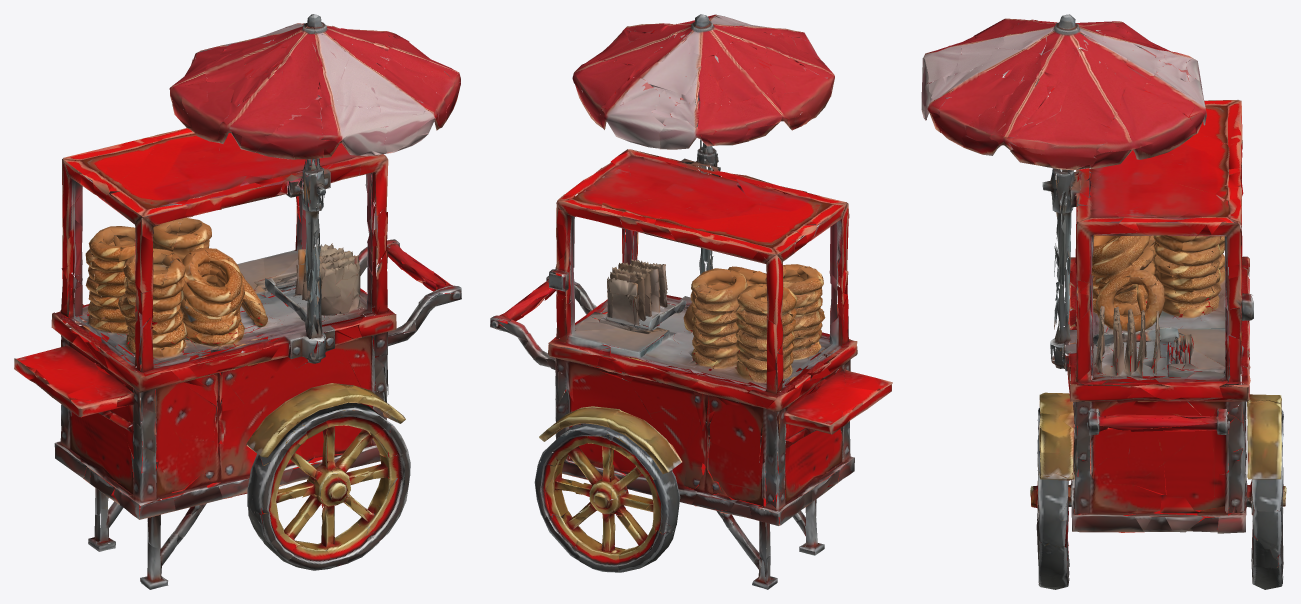
File: SimitCart.fbx
3 renders of one model, left to right at view 1: azimuth 30°, elevation 25°; view 2: azimuth 150°, elevation 25°; view 3: azimuth 270°, elevation 25°, orthographic. The views are drawn at different scales.
Parts seen in each view (by area): view 1: SimitCart.019; view 2: SimitCart.019; view 3: SimitCart.019.
Part boxes in pixels (x1,y1,x2,y2): SimitCart.019: (14, 14, 461, 589); SimitCart.019: (490, 14, 892, 589); SimitCart.019: (921, 14, 1286, 589).
Size of the model in its own units: 1.35 by 1.85 by 1.09.
1 material, 1 textured.
